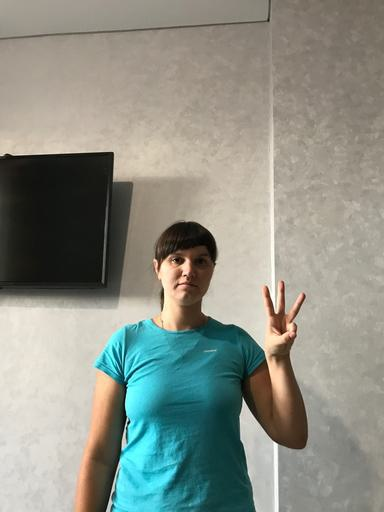three: (260, 279, 307, 358)
